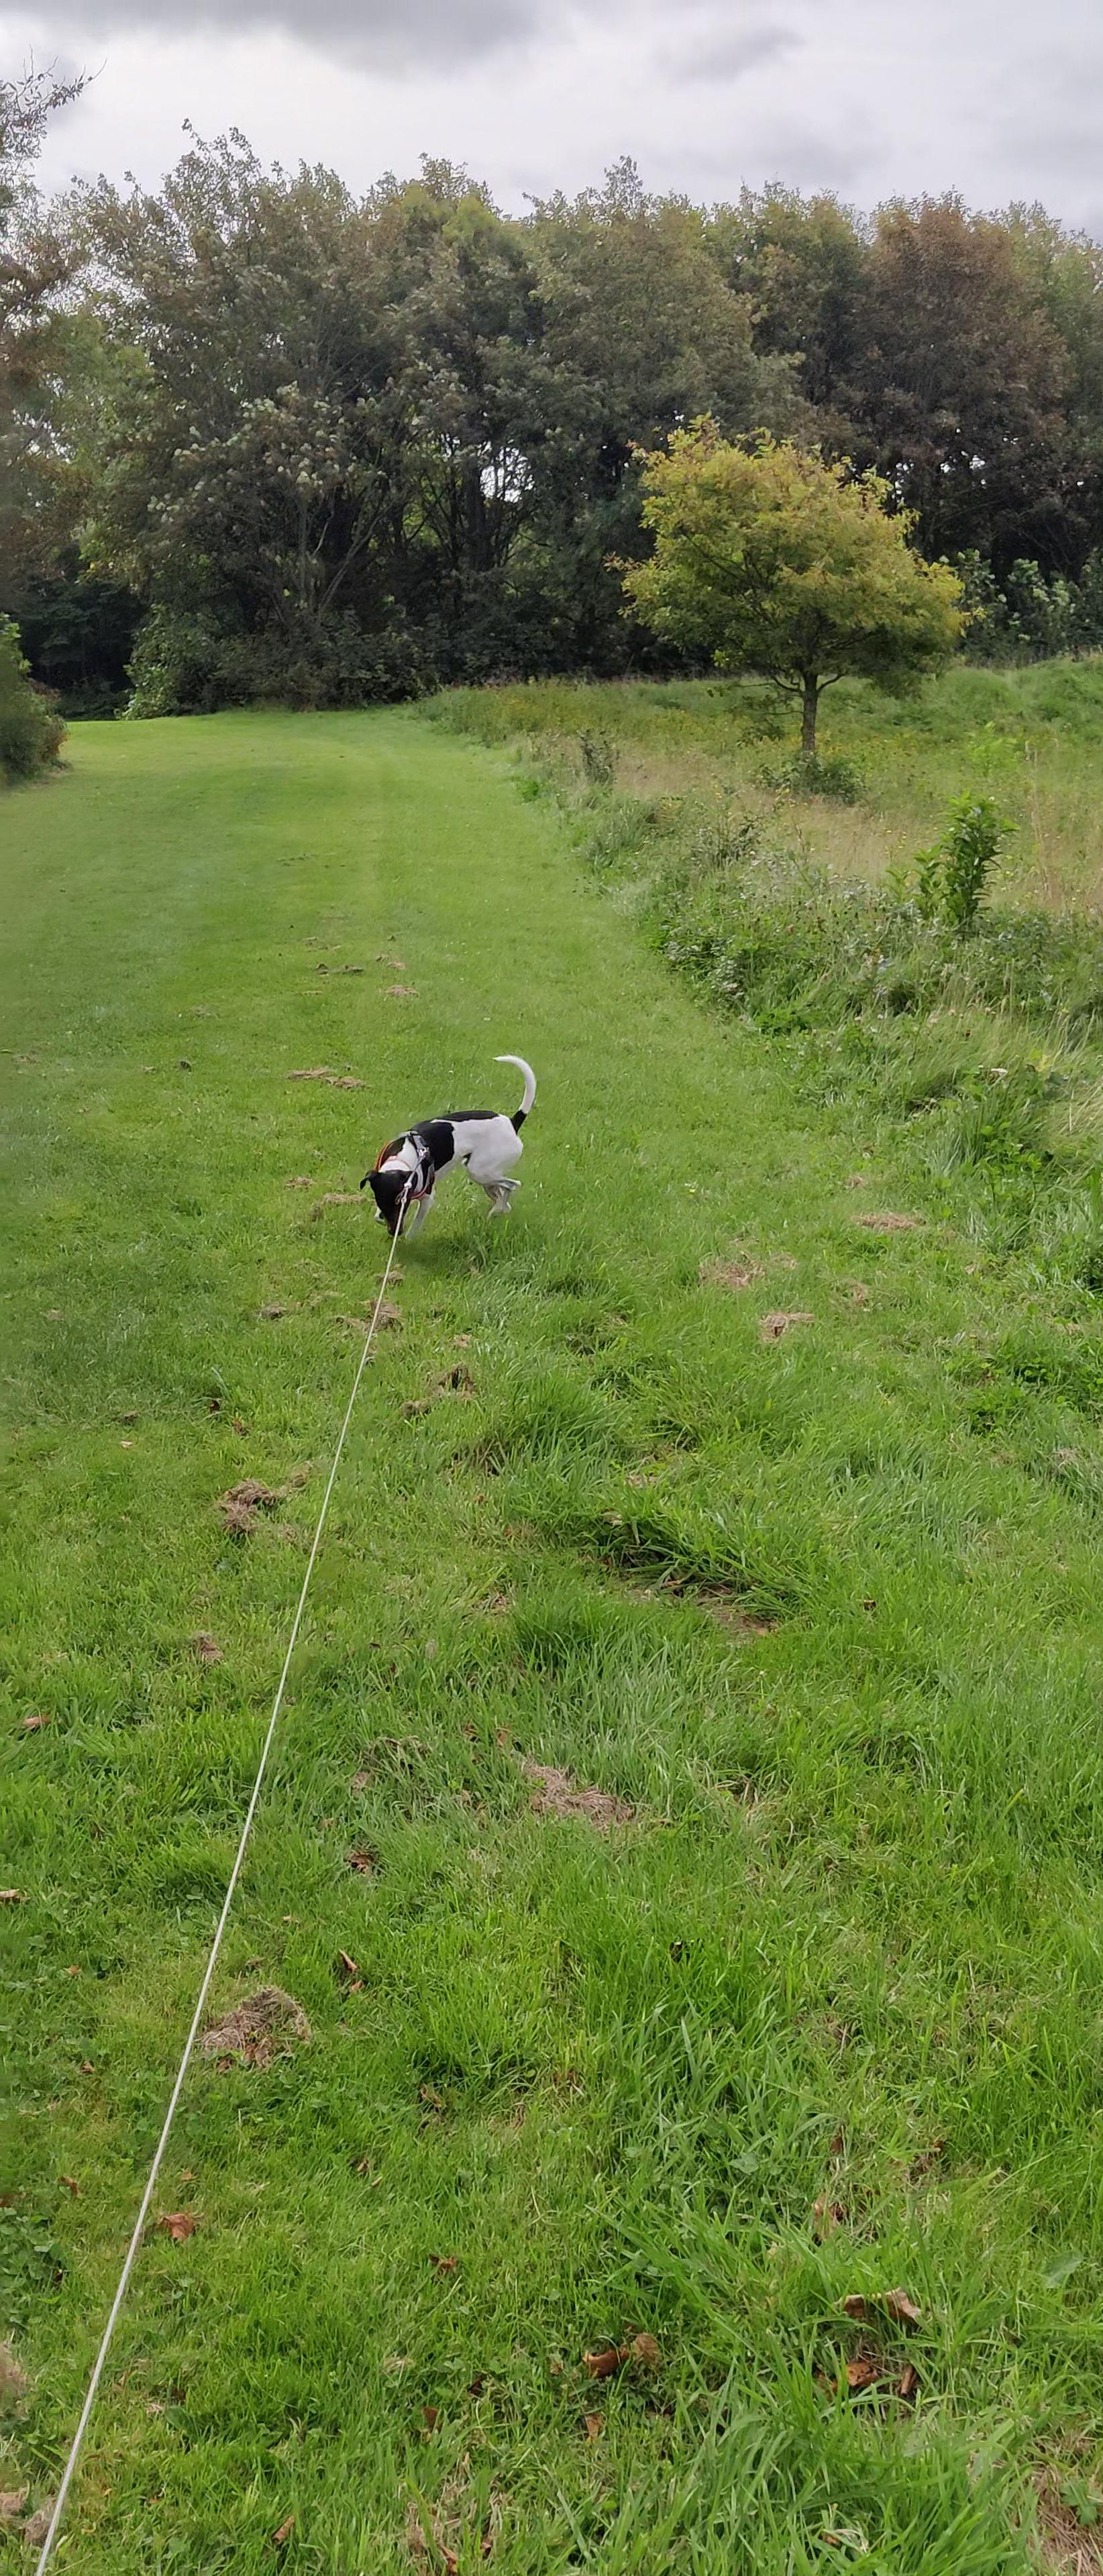Dog: (352, 1050, 551, 1245)
